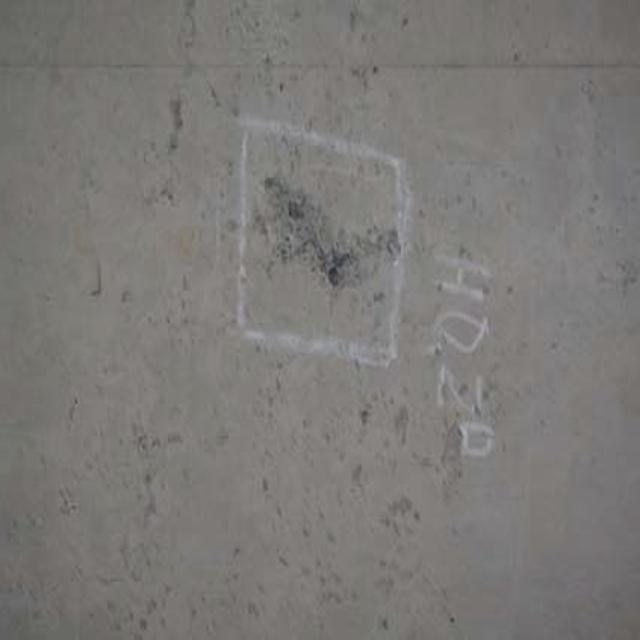spalling: (233, 157, 408, 342)
